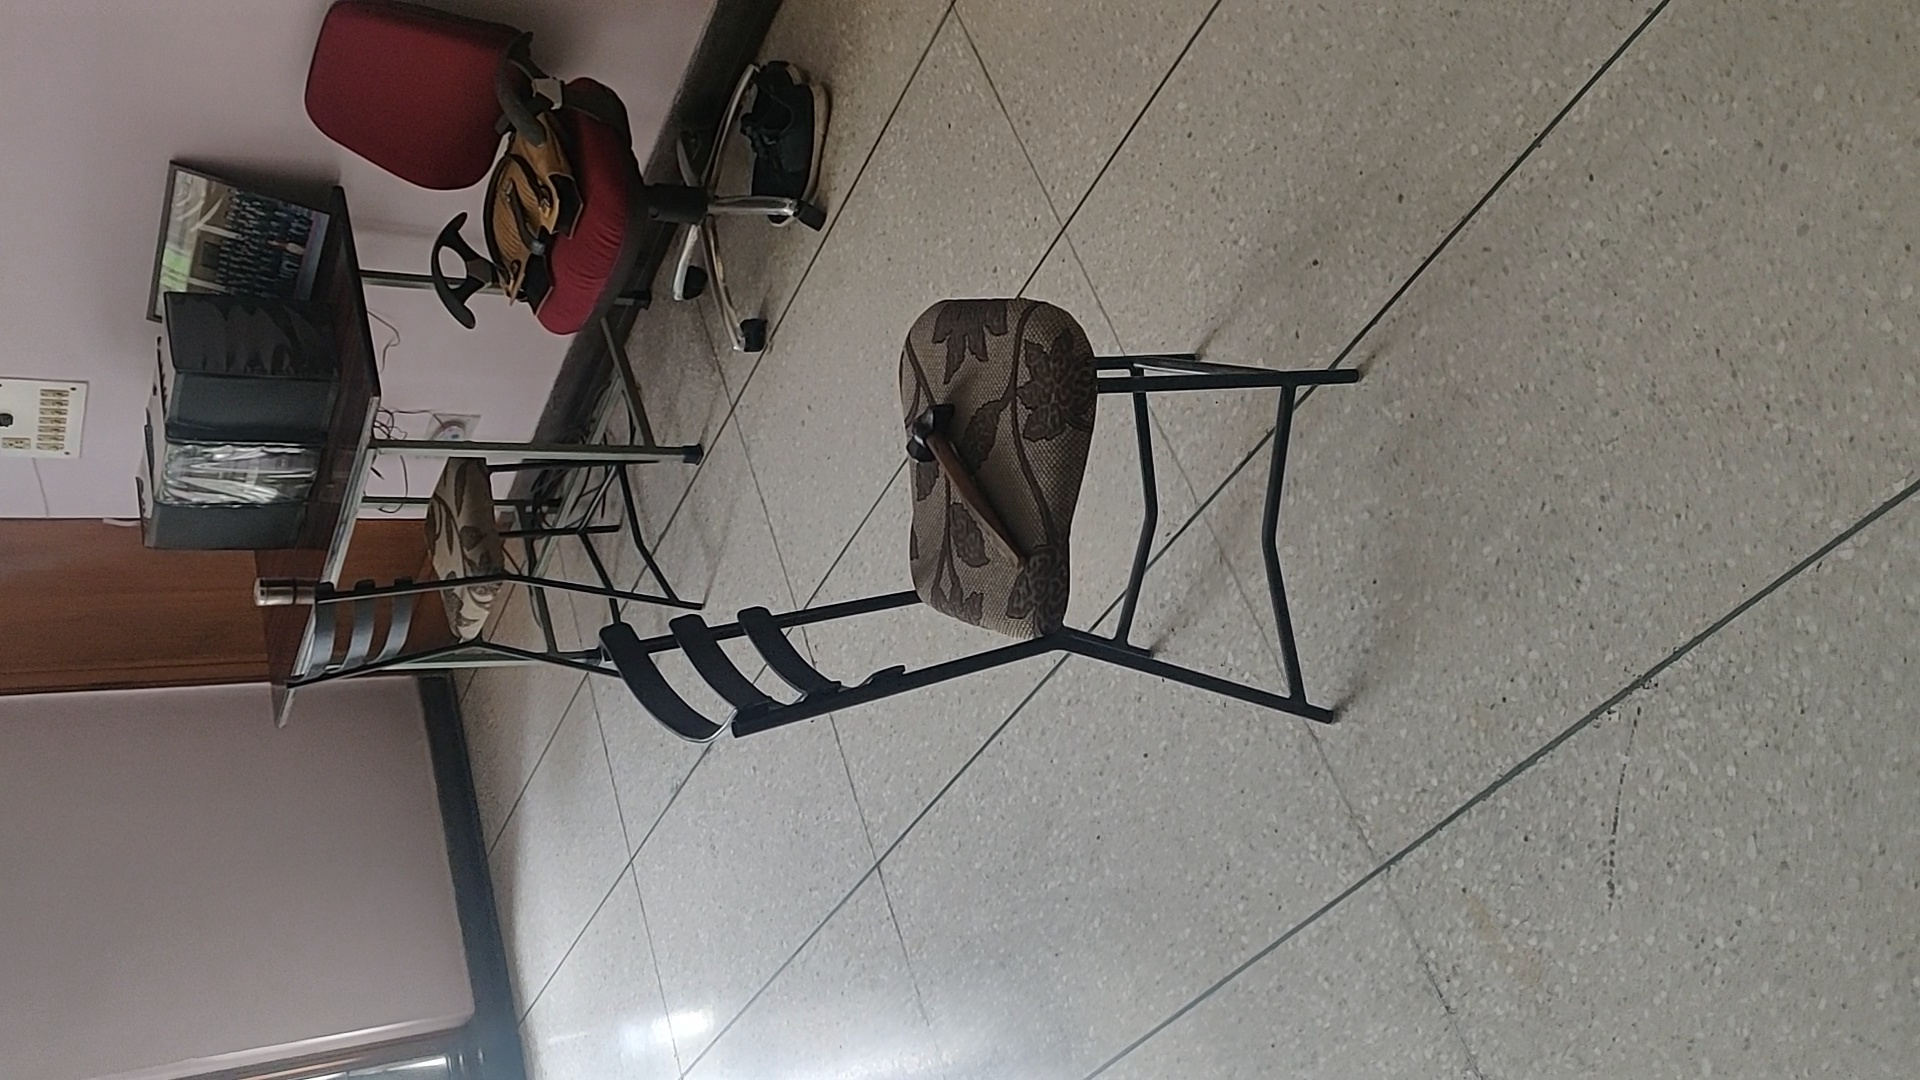hammer: (906, 404, 1018, 564)
